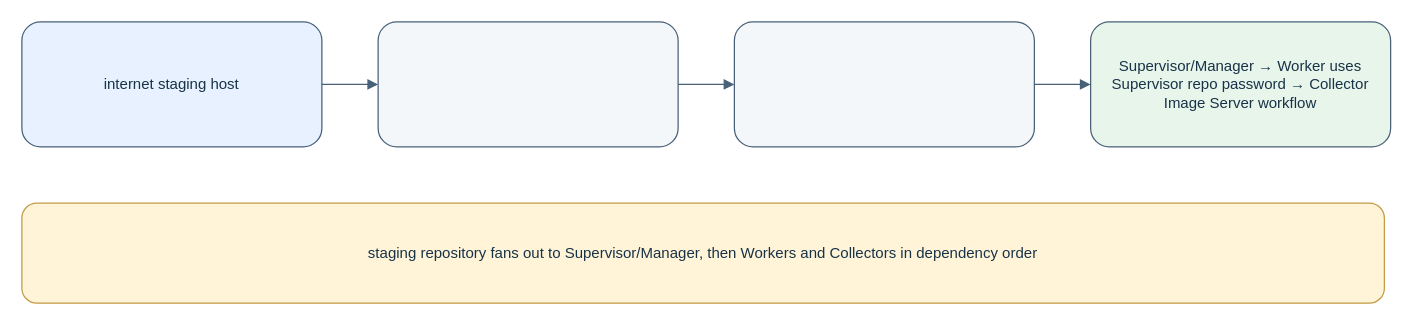
Image size: 1413x325. Some labels were removed from this diagram. The centre of each missing label's shape, as x and y in pixels:
NFS/USB mount: the point at 883,84
version-matched repository sync: the point at 527,84
